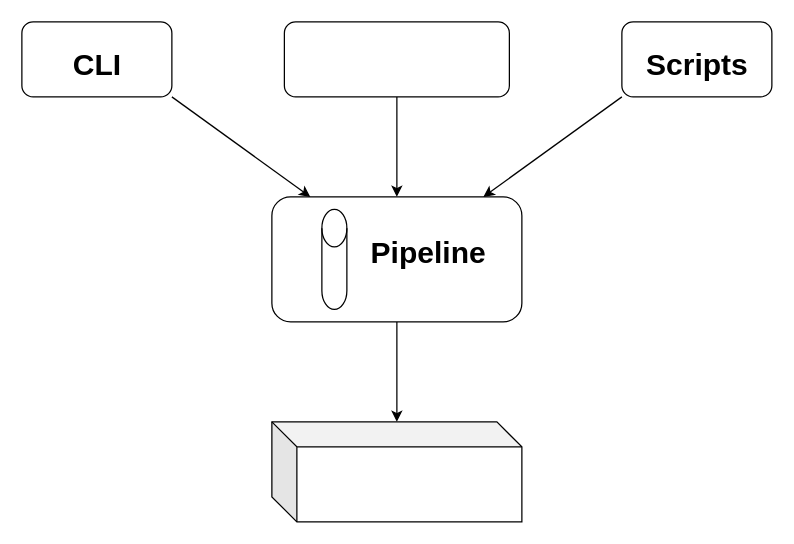
Image size: 794x544. Some labels were removed from this diagram. Here are the shapes that lost their labels. From the top down, the centre of each, then its label:
[396,59]: Deployments
[396,471]: Producation
